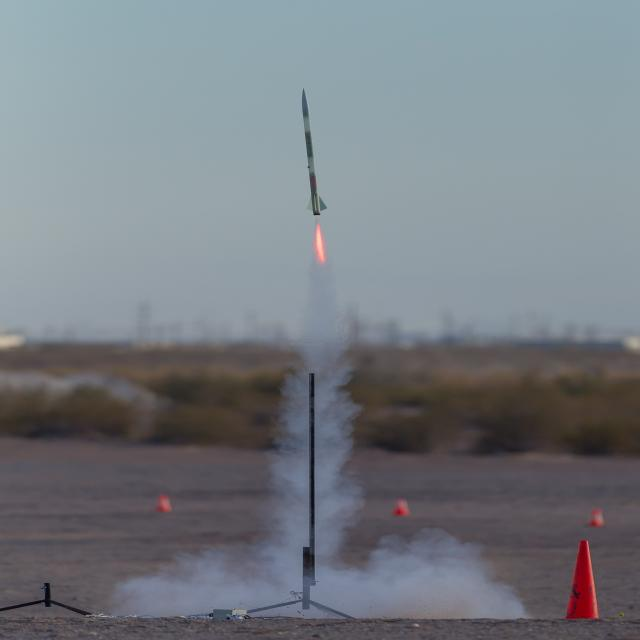Rocket: (301, 88, 328, 216)
